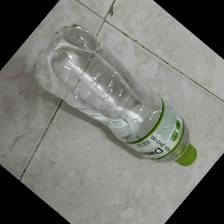Dasani: (30, 24, 199, 169)
